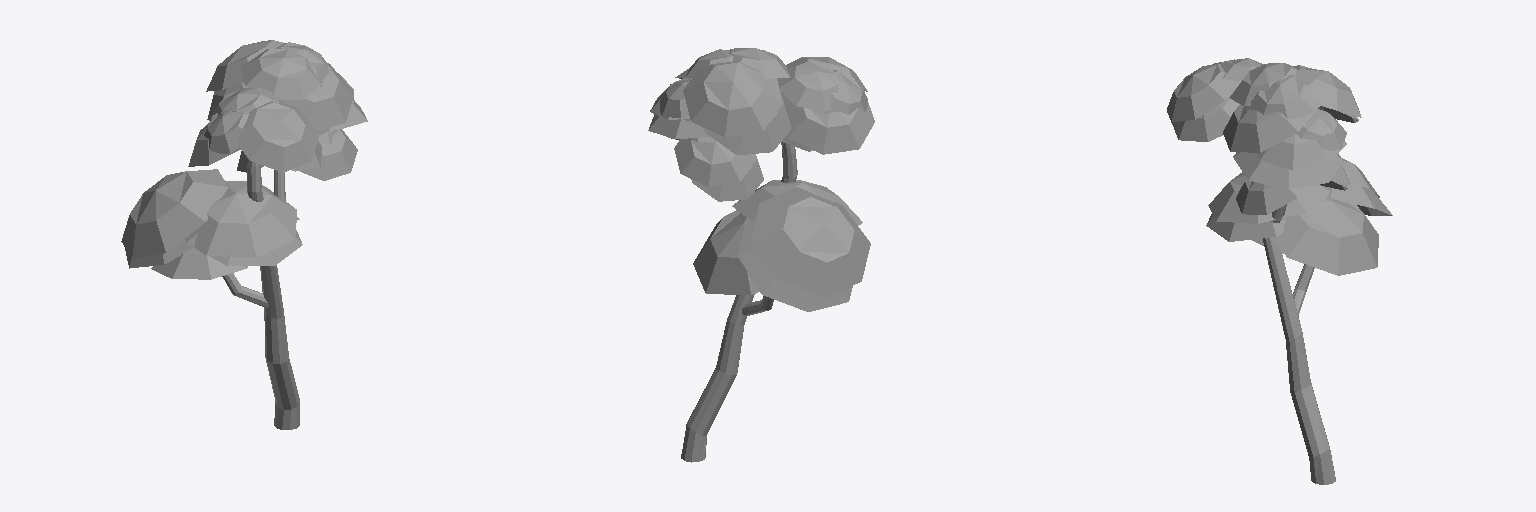
The model's file is Birch_9.obj.
3 views of the same model, side by side, from view 1: azimuth 30°, elevation 25°; view 2: azimuth 150°, elevation 25°; view 3: azimuth 270°, elevation 25° (orthographic).
Parts seen in each view (by area): view 1: Birch_9; view 2: Birch_9; view 3: Birch_9.
Part boxes in pixels (x1,y1,x2,y2): Birch_9: (121,40,367,429); Birch_9: (648,48,874,462); Birch_9: (1167,58,1392,484).
Size of the model in its own units: 5.21 by 9.05 by 4.7.